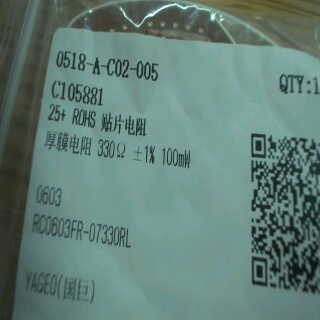330R: (93, 137, 127, 164)
